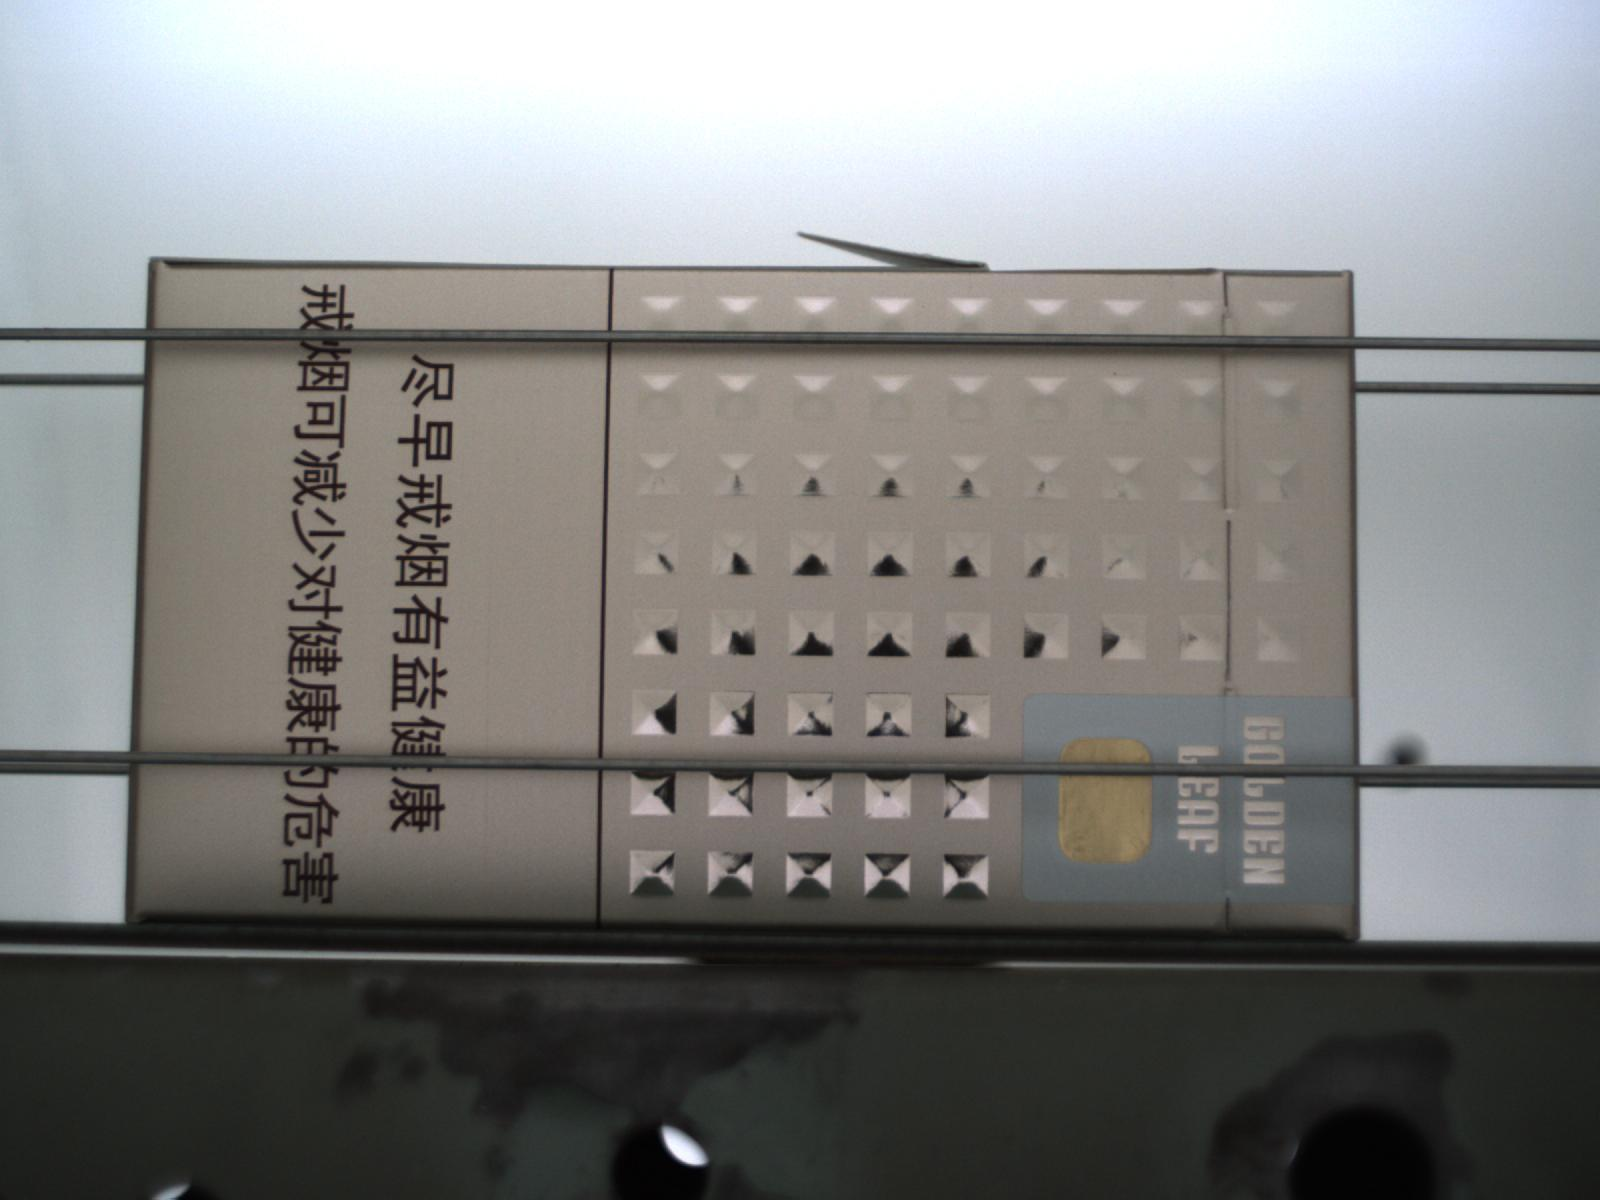dirtyScratch: (476, 608, 501, 853)
dirtySpot: (1110, 369, 1121, 379)
outerFold_upper_01: (792, 226, 994, 280)
